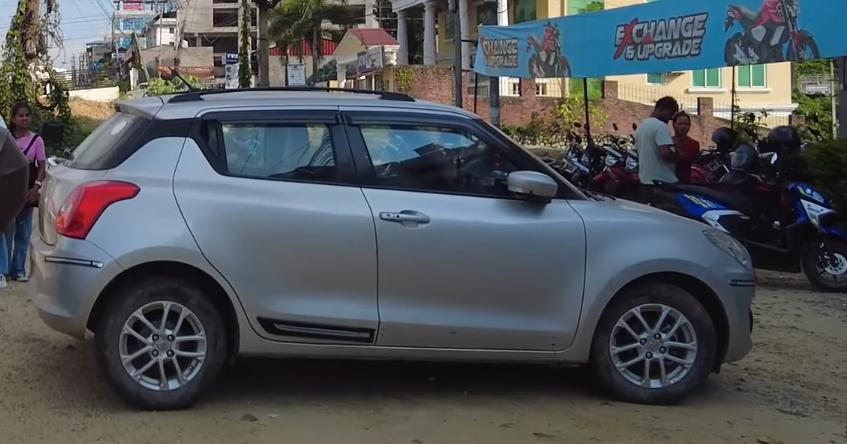car: (22, 83, 762, 409)
scooter: (652, 159, 847, 287)
